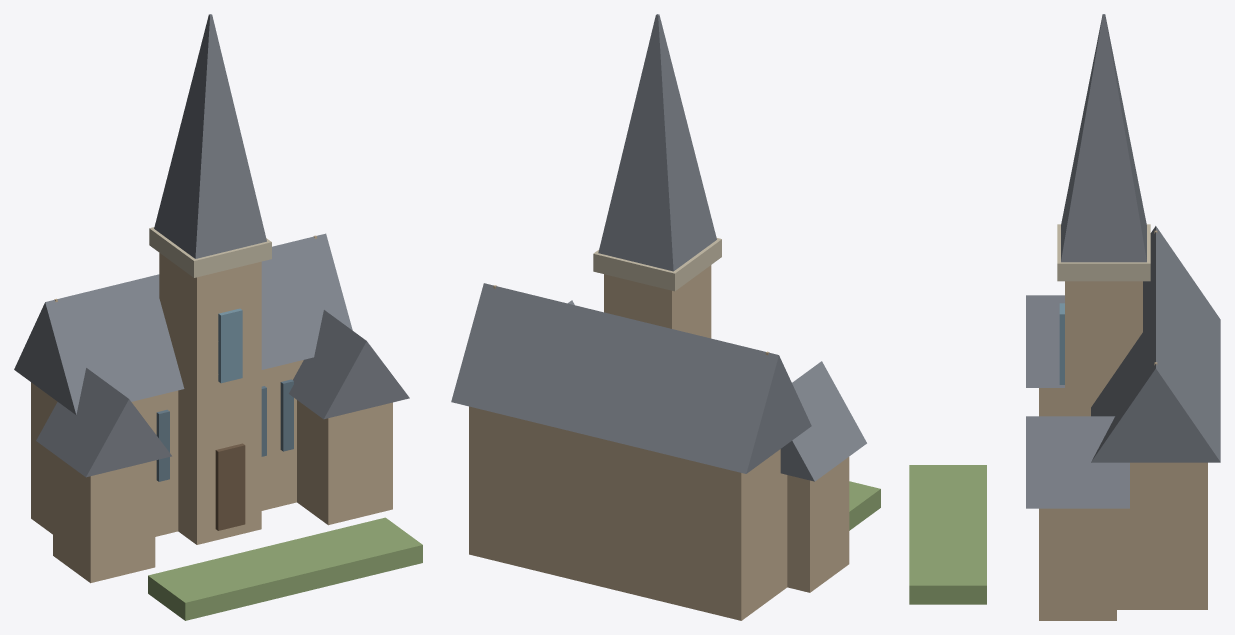
File: university.glb
3 views of the same model, side by side, from view 1: azimuth 30°, elevation 25°; view 2: azimuth 150°, elevation 25°; view 3: azimuth 270°, elevation 25° (orthographic). The views are drawn at different scales.
Parts seen in each view (by area): view 1: LOD0; view 2: LOD0; view 3: LOD0.
Part boxes in pixels (<box>): LOD0: <box>14,14,422,620</box>; LOD0: <box>451,14,880,620</box>; LOD0: <box>909,14,1220,620</box>.
Size of what is drawn, in the model's own units: 0.3 by 0.45 by 0.24.
